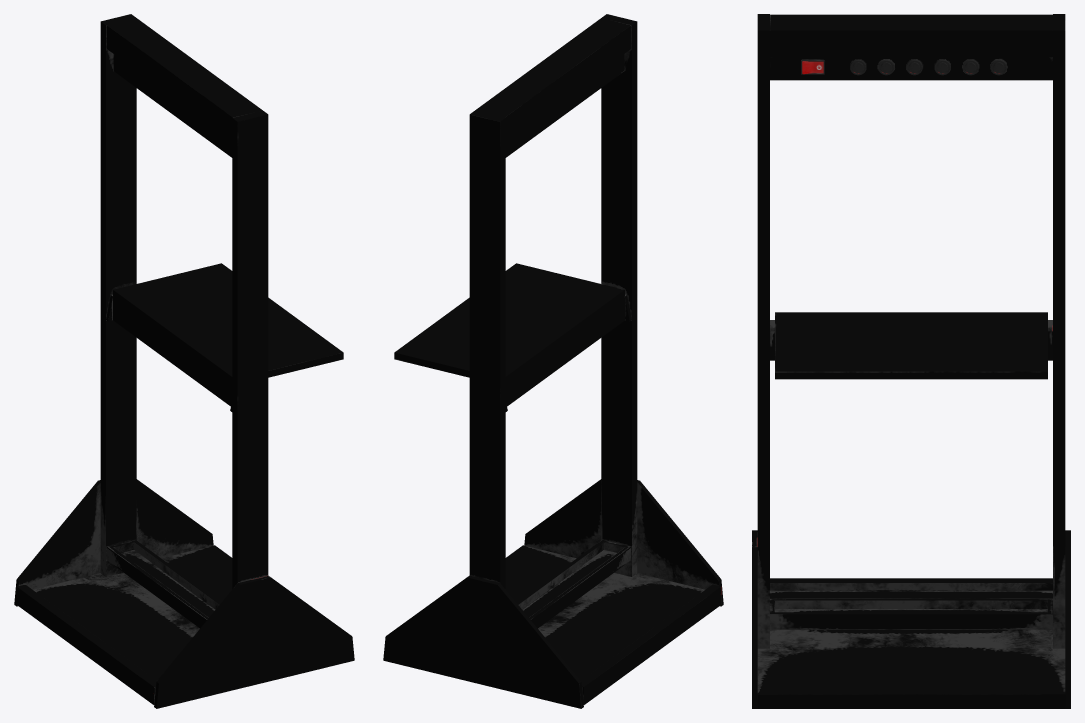
The model's file is Rak 19 Inch.fbx.
The picture shows the model from 3 angles, left to right: view 1: azimuth 30°, elevation 25°; view 2: azimuth 150°, elevation 25°; view 3: azimuth 270°, elevation 25°; orthographic projection. The views are drawn at different scales.
Parts seen in each view (by area): view 1: Cube, Cube.001, Cube.002, Cube.007, Cube.008, Cube.003, Cube.004, Cube.009; view 2: Cube, Cube.001, Cube.002, Cube.007, Cube.008, Cube.003, Cube.004, Cube.009; view 3: Cube.002, Cube.007, Cube, Cube.008, Cube.003, Cube.009, Cube.001, Cylinder.
Part boxes in pixels (<box>): Cube: <box>100,14,268,588</box>; Cube.001: <box>14,479,354,708</box>; Cube.002: <box>16,545,232,704</box>; Cube.007: <box>113,263,343,383</box>; Cube.008: <box>107,18,262,140</box>; Cube.003: <box>107,540,221,628</box>; Cube.004: <box>113,297,232,406</box>; Cube.009: <box>113,54,232,157</box>; Cube: <box>469,14,637,588</box>; Cube.001: <box>383,479,723,708</box>; Cube.002: <box>505,545,721,704</box>; Cube.007: <box>394,263,624,383</box>; Cube.008: <box>475,18,630,140</box>; Cube.003: <box>516,540,630,628</box>; Cube.004: <box>505,297,624,406</box>; Cube.009: <box>505,54,624,157</box>; Cube.002: <box>757,578,1065,708</box>; Cube.007: <box>775,312,1047,379</box>; Cube: <box>757,14,1065,648</box>; Cube.008: <box>770,14,1052,57</box>; Cube.003: <box>770,598,1052,629</box>; Cube.009: <box>770,57,1052,80</box>; Cube.001: <box>752,530,1070,708</box>; Cylinder: <box>850,59,1006,75</box>.
Bounding box in the file's own units: 200 × 545 × 249.
Materials: 1 (1 with a texture image).
